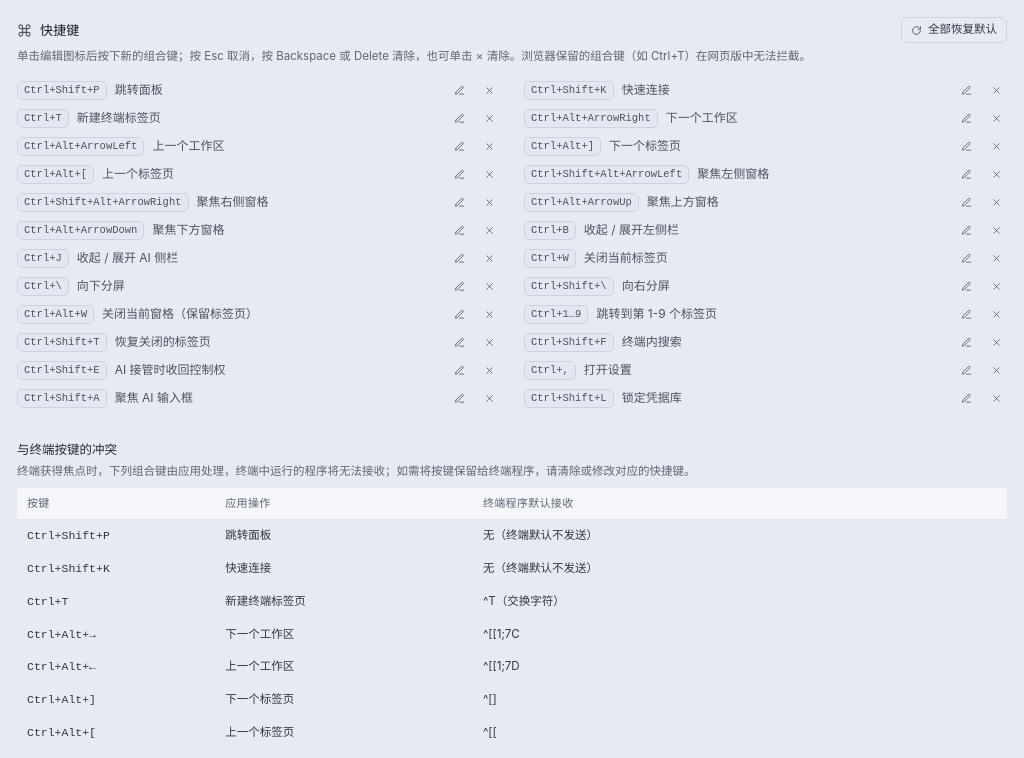
Test: shortcuts editor › rejects bare single keys with an inline reason
This screenshot has width=1024, height=758.
Click the button named "修改快捷键：跳转面板": click(459, 90) [448,79,470,101]
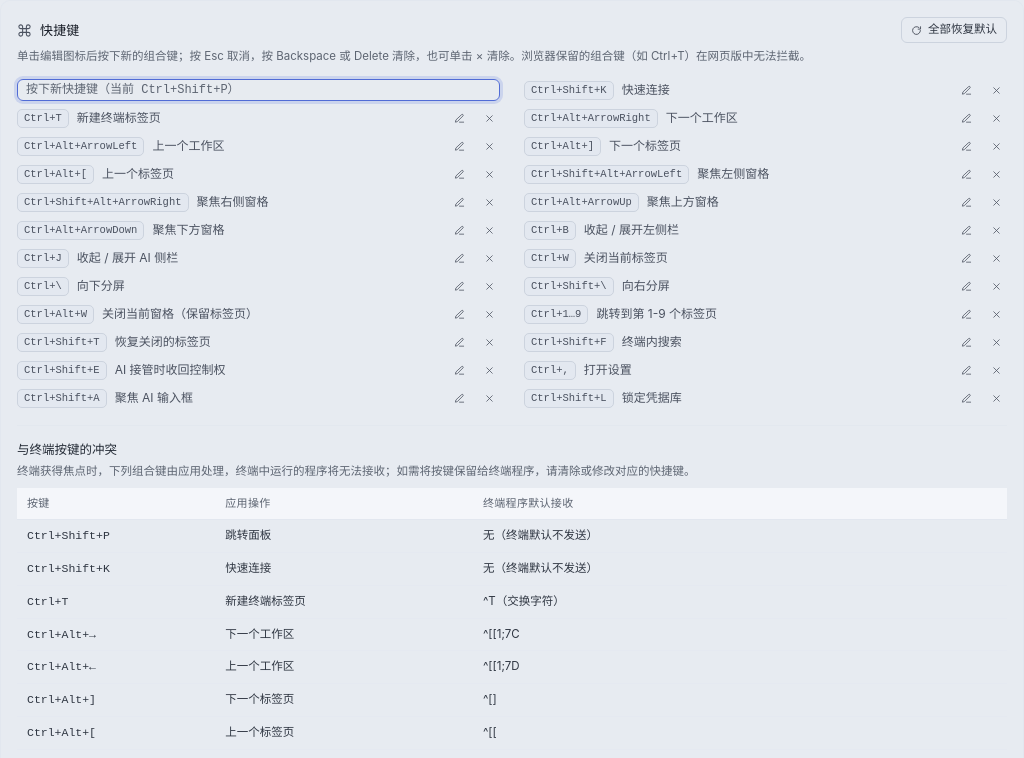
Press a in the field with placeholder "按下新快捷键（当前 Ctrl+Shift+P）", box [17,79,500,101]
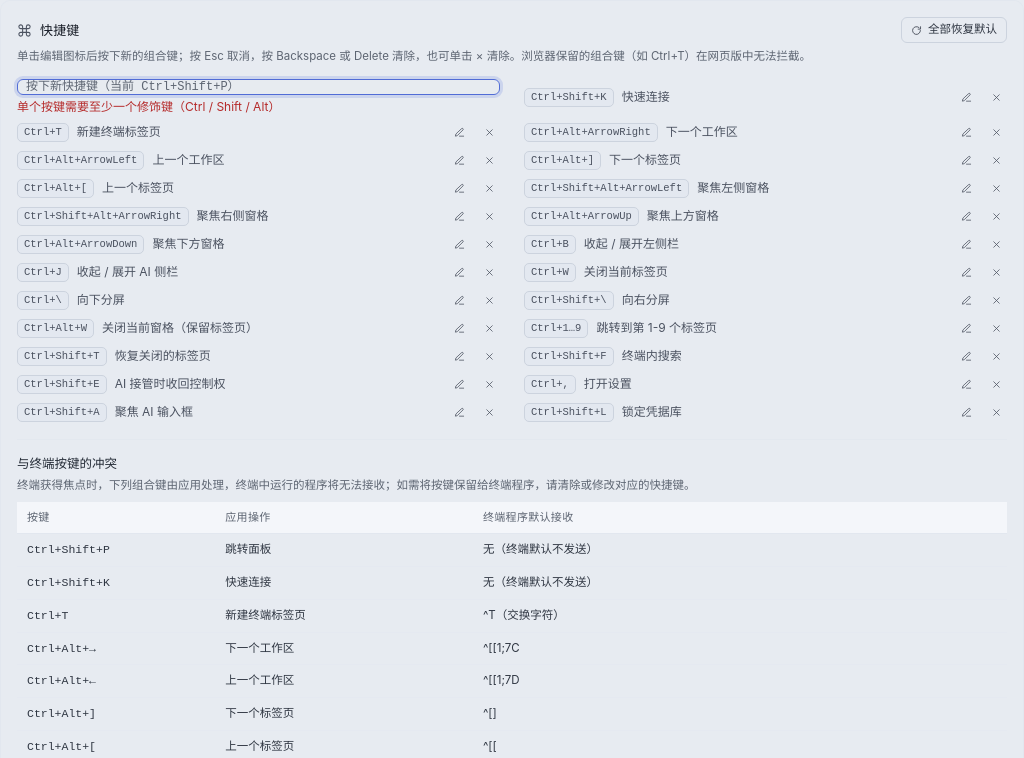
expect the field with placeholder "按下新快捷键（当前 Ctrl+Shift+P）" is shown: met, box [17,79,500,95]
expect the message "单个按键需要至少一个修饰键（Ctrl / Shift / Alt）" is shown: met, box [17,99,280,114]
